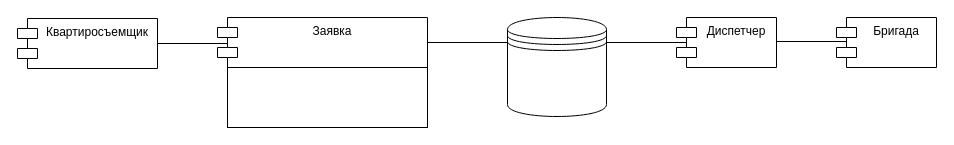
The diagram is 954 pixels wide and 145 high, and some of its shapes have lost their labels. The shapes that lost their labels are listed below. From the top down, each one's centre as x and y in pixels, then its label:
point (556, 66): База данных
point (327, 97): род работ масштаб работ желаемое время выполнения
